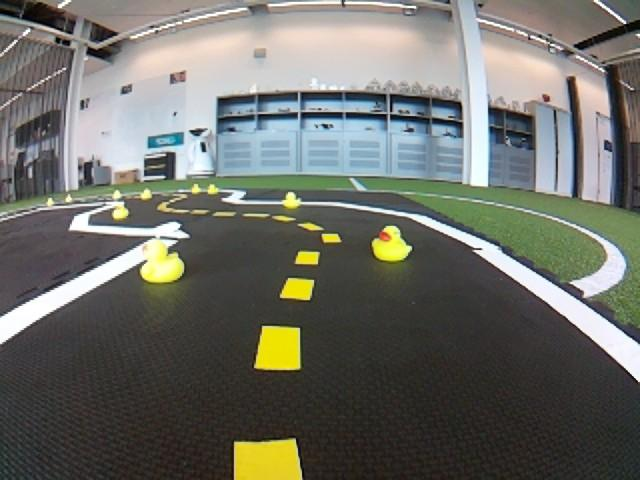Duckies: (138, 247, 182, 284), (373, 226, 411, 261), (280, 192, 301, 209), (112, 205, 128, 220), (139, 188, 151, 200), (192, 184, 202, 195), (209, 184, 218, 194), (113, 190, 123, 198), (64, 194, 72, 203), (48, 199, 55, 205)
